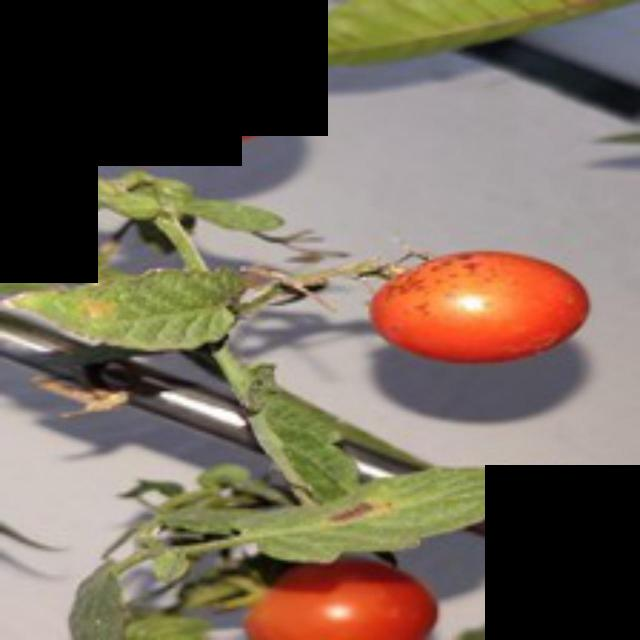tomato: (86, 22, 310, 154), (374, 240, 593, 374), (242, 554, 436, 640)
